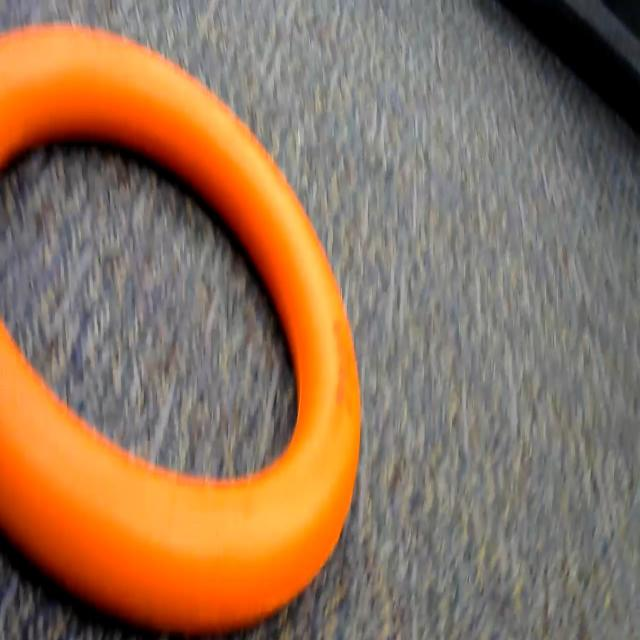note: (0, 17, 370, 640)
